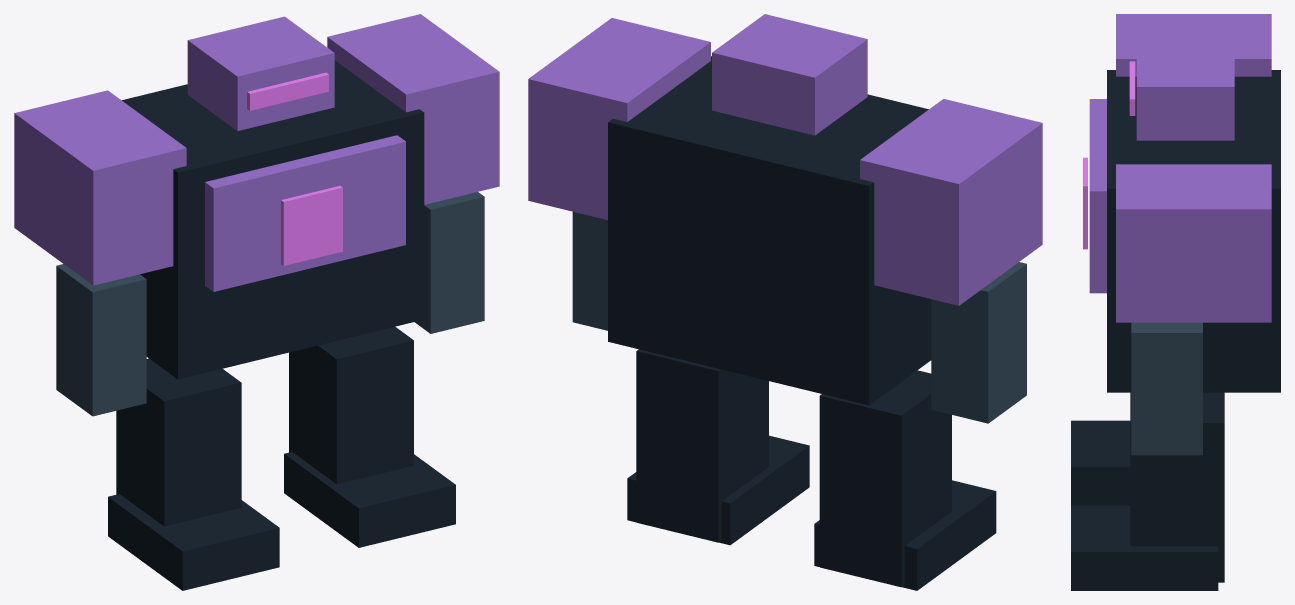
The model's file is enemy_tank_far.obj.
3 renders of one model, left to right at view 1: azimuth 30°, elevation 25°; view 2: azimuth 150°, elevation 25°; view 3: azimuth 270°, elevation 25°, orthographic. The views are drawn at different scales.
Bounding box in the file's own units: 2.26 × 2.49 × 1.03.
